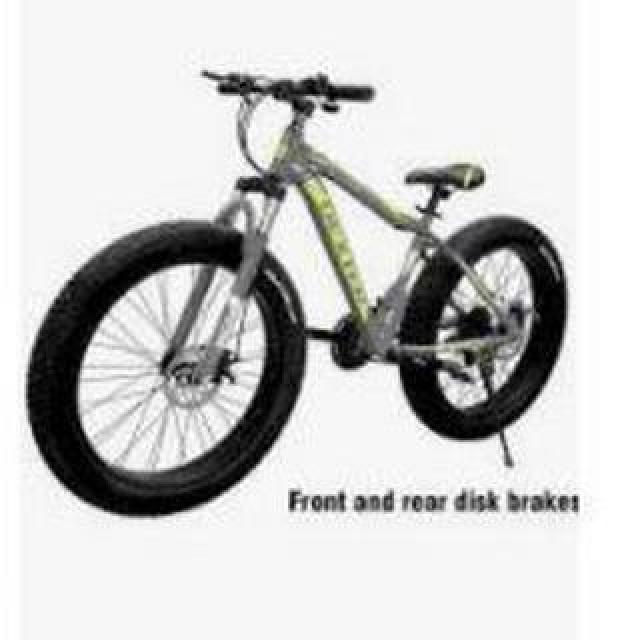Person: (19, 58, 601, 518)
